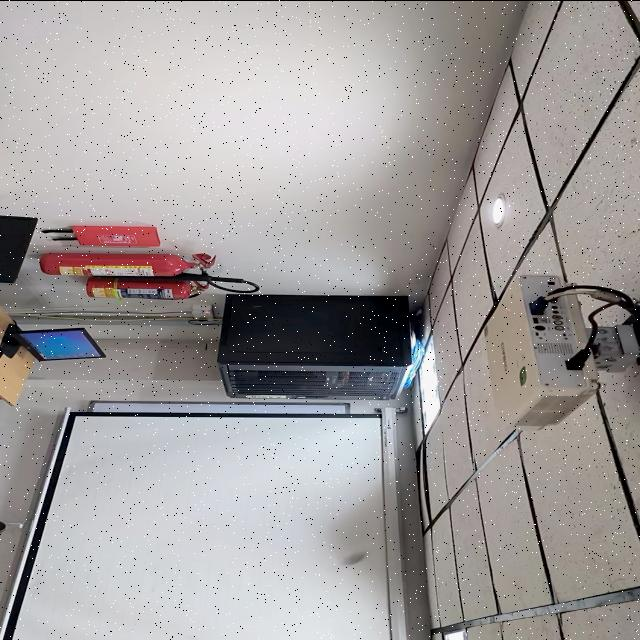Fire Extinguisher: (41, 252, 196, 275), (87, 278, 194, 298)
Light: (419, 337, 441, 433), (492, 193, 508, 225), (444, 629, 467, 640)
Monitor: (0, 322, 106, 360), (0, 215, 38, 282)
Projector: (484, 274, 598, 429)
